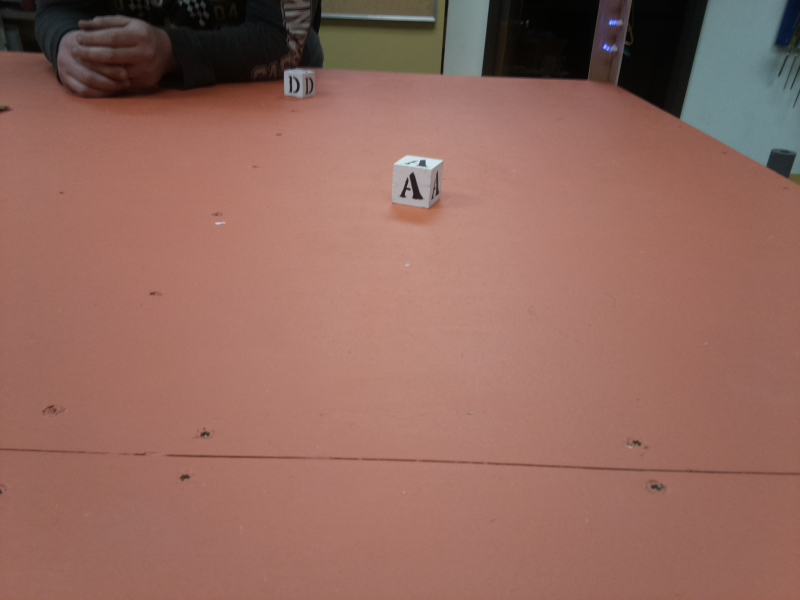blockA: (389, 152, 444, 207)
blockD: (282, 69, 315, 100)
corner: (591, 3, 637, 95)
slope: (1, 104, 14, 119)
